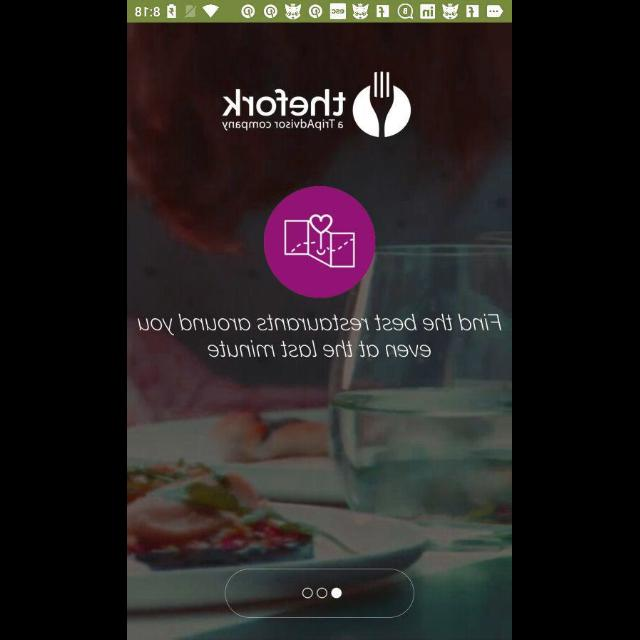backgroundimage: (128, 24, 512, 640)
image: (224, 72, 412, 138), (265, 187, 377, 297)
pageindicator: (302, 587, 342, 599)
text: (138, 314, 502, 361)
uppertaskbar: (128, 1, 512, 23)
